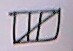kok: (3, 3, 69, 48)
